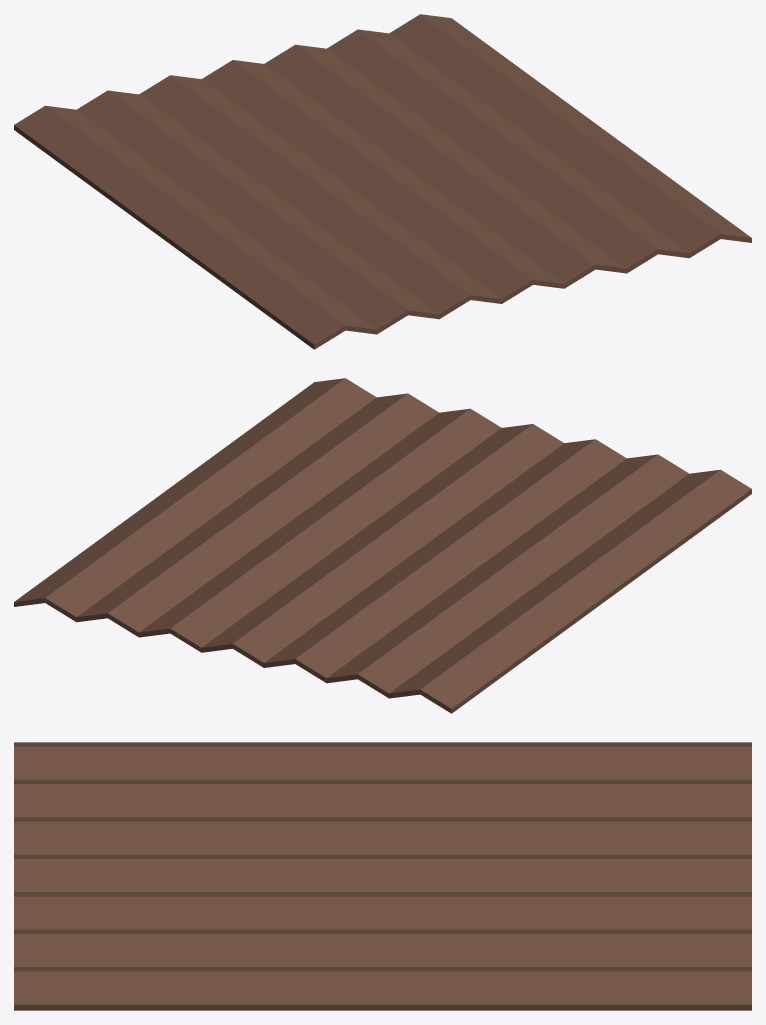
The model's file is MetalTile_02.fbx.
The picture shows the model from 3 angles, top to bottom: view 1: azimuth 30°, elevation 25°; view 2: azimuth 150°, elevation 25°; view 3: azimuth 270°, elevation 25°; orthographic projection. The views are drawn at different scales.
Visible parts, largest first — view 1: MetalTile_02; view 2: MetalTile_02; view 3: MetalTile_02.
Boxes of the visible parts, box(x1,y1,x2,y2) form: MetalTile_02: box(14, 14, 751, 349); MetalTile_02: box(14, 378, 751, 713); MetalTile_02: box(14, 742, 751, 1010).
Size of the model in its own units: 115 by 4.18 by 137.
